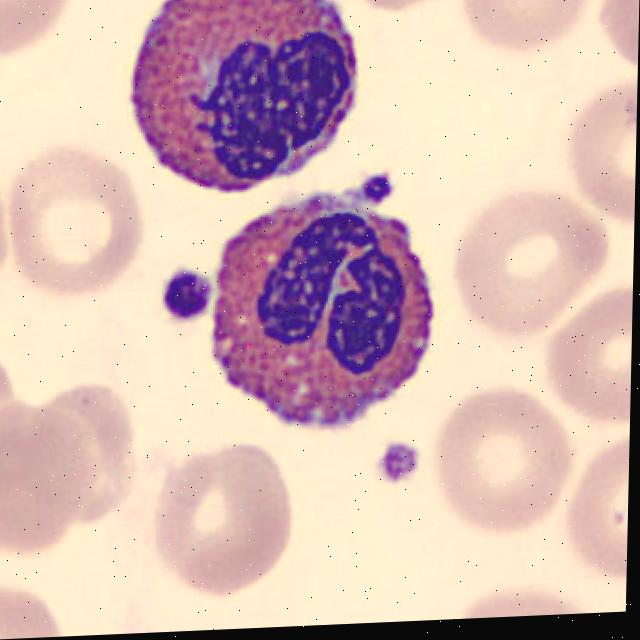eosinophil: (205, 194, 434, 438), (125, 0, 362, 199)
platelets: (153, 260, 221, 317), (361, 439, 428, 486), (353, 175, 395, 212)
rbc: (126, 427, 296, 624), (5, 138, 143, 316), (448, 204, 615, 341), (438, 374, 569, 543), (0, 407, 109, 558), (547, 299, 633, 421), (449, 0, 614, 53), (0, 0, 74, 64), (426, 597, 621, 620), (0, 585, 72, 640), (354, 0, 447, 23)
